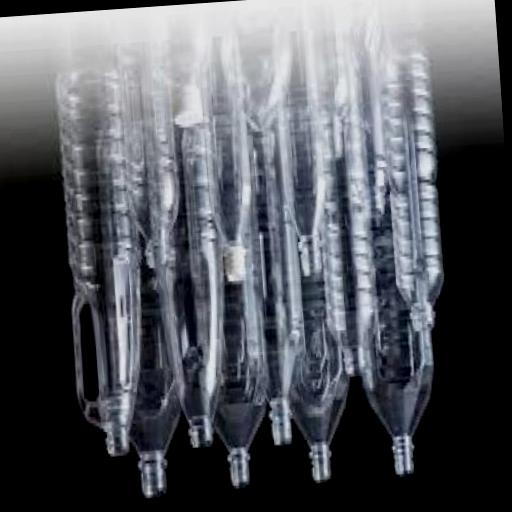plastic: (342, 45, 444, 482), (50, 58, 158, 462), (141, 47, 238, 456), (266, 76, 358, 488), (98, 116, 192, 504), (182, 123, 276, 494), (226, 88, 315, 454), (310, 55, 386, 381), (378, 47, 452, 339), (122, 40, 186, 272), (275, 33, 334, 280), (204, 60, 264, 289), (342, 32, 394, 236), (221, 21, 300, 137), (152, 22, 223, 130), (304, 16, 351, 166), (172, 84, 208, 131), (228, 250, 250, 288)
